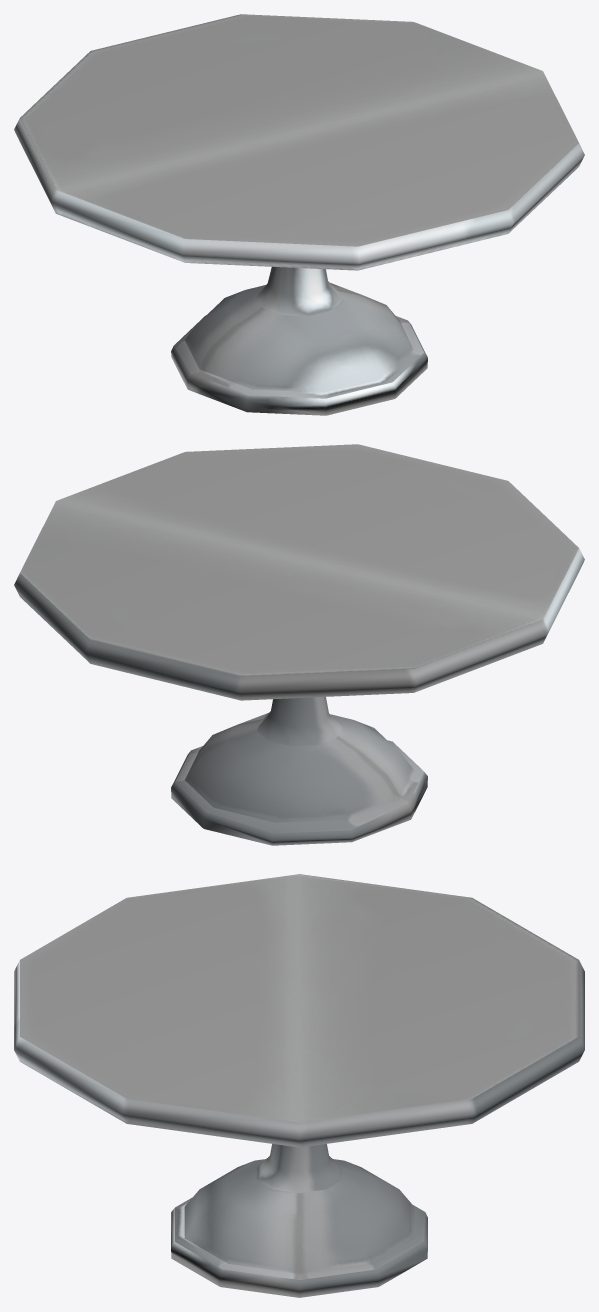
Rendered from Silver_Display_Small.fbx.
3 renders of one model, top to bottom at view 1: azimuth 30°, elevation 25°; view 2: azimuth 150°, elevation 25°; view 3: azimuth 270°, elevation 25°, orthographic. The views are drawn at different scales.
Parts seen in each view (by area): view 1: Silver_Display_Small; view 2: Silver_Display_Small; view 3: Silver_Display_Small.
Part boxes in pixels (x1,y1,x2,y2): Silver_Display_Small: (14,14,584,415); Silver_Display_Small: (14,444,584,845); Silver_Display_Small: (14,874,584,1297).
Size of the model in its own units: 58.64 by 26.47 by 55.77.
